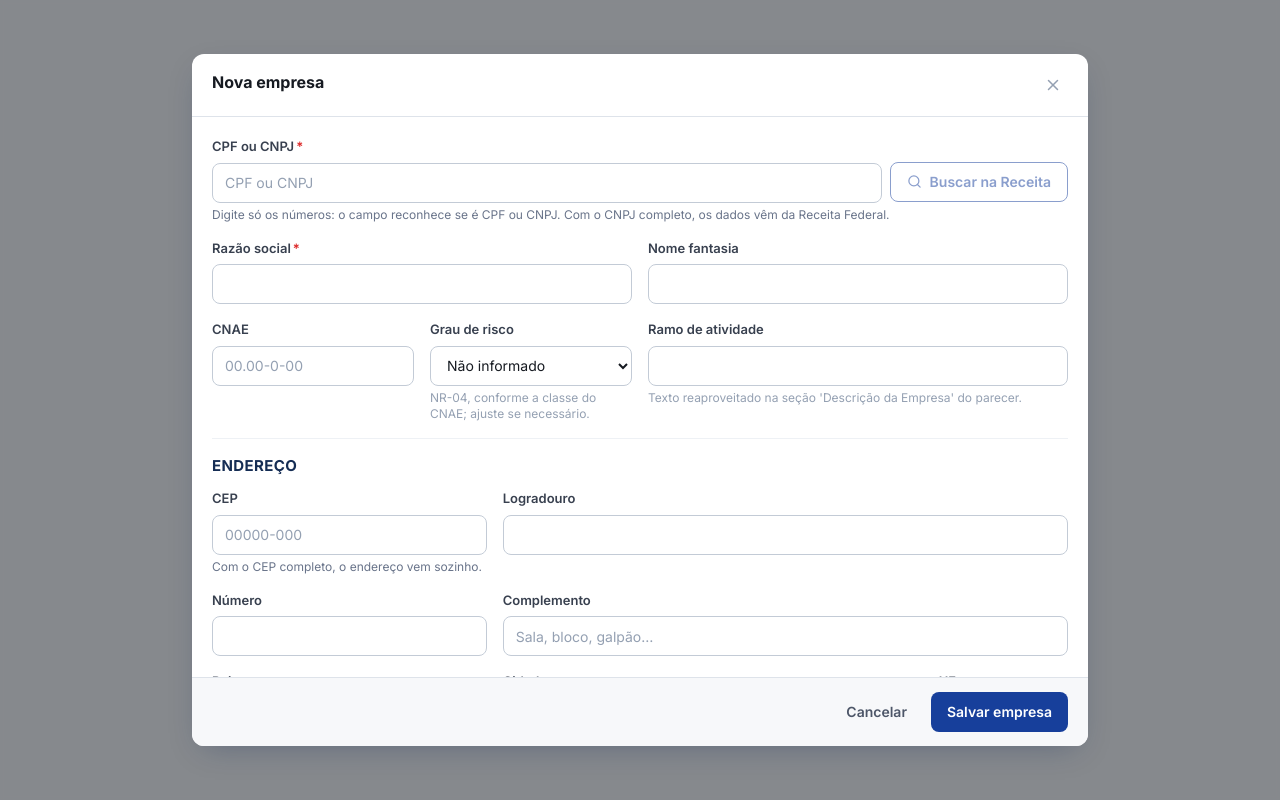
Test: ModalEmpresa › erro do servidor mantém a janela aberta com o que foi digitado
The image size is (1280, 800).
Type "ADZ SERVICOS LTDA" into the field labelled "Razão social*" at coordinates (422, 284), box [212,264,632,304]
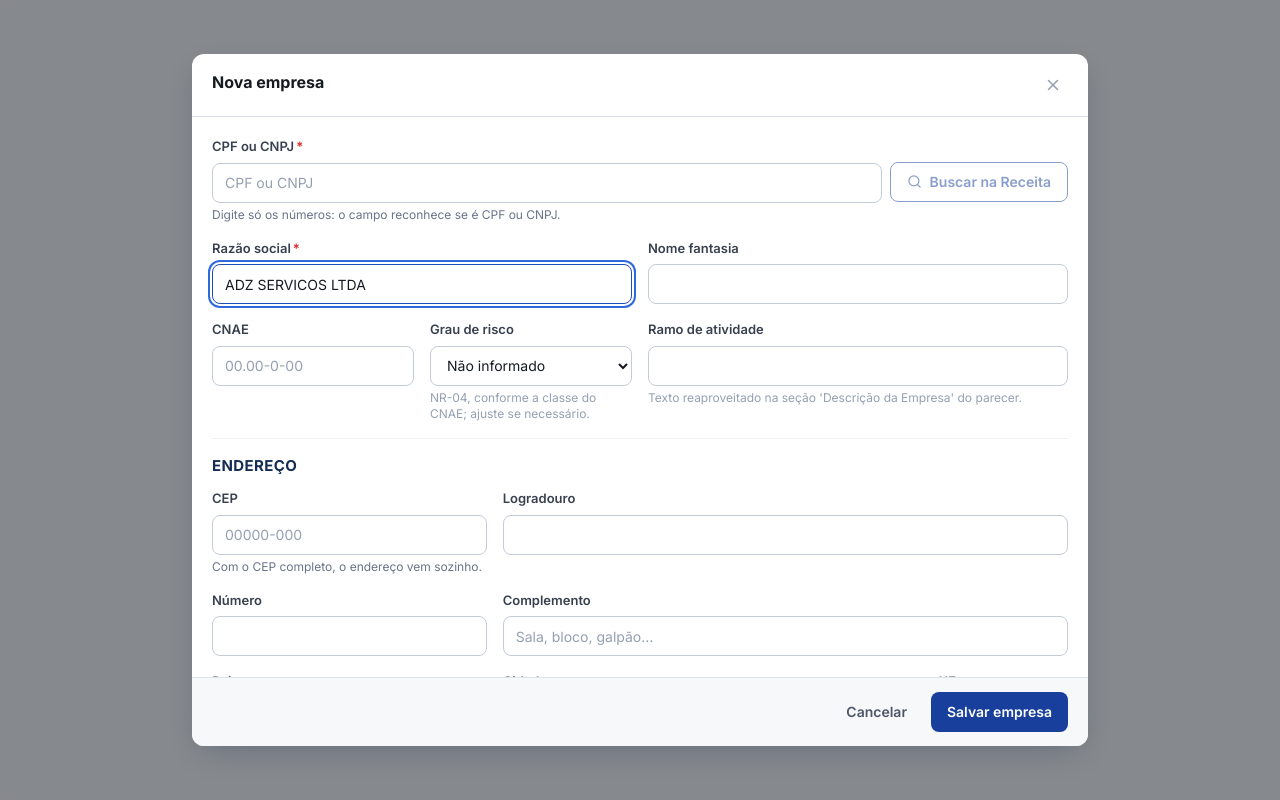
Type "11222333000181" into the field labelled "CPF ou CNPJ" at coordinates (547, 182), box [212,162,882,202]
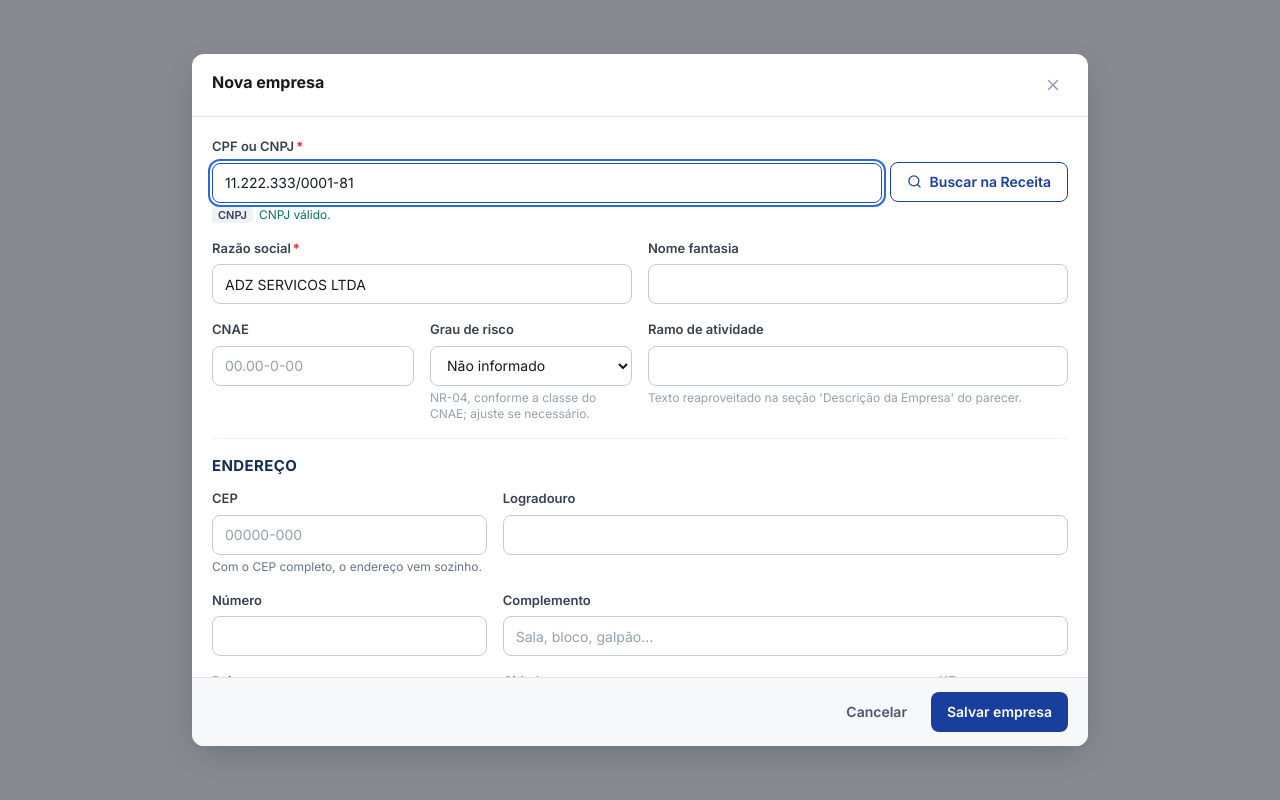
Click the button "Salvar empresa" at coordinates (1000, 712), box [931,692,1068,732]
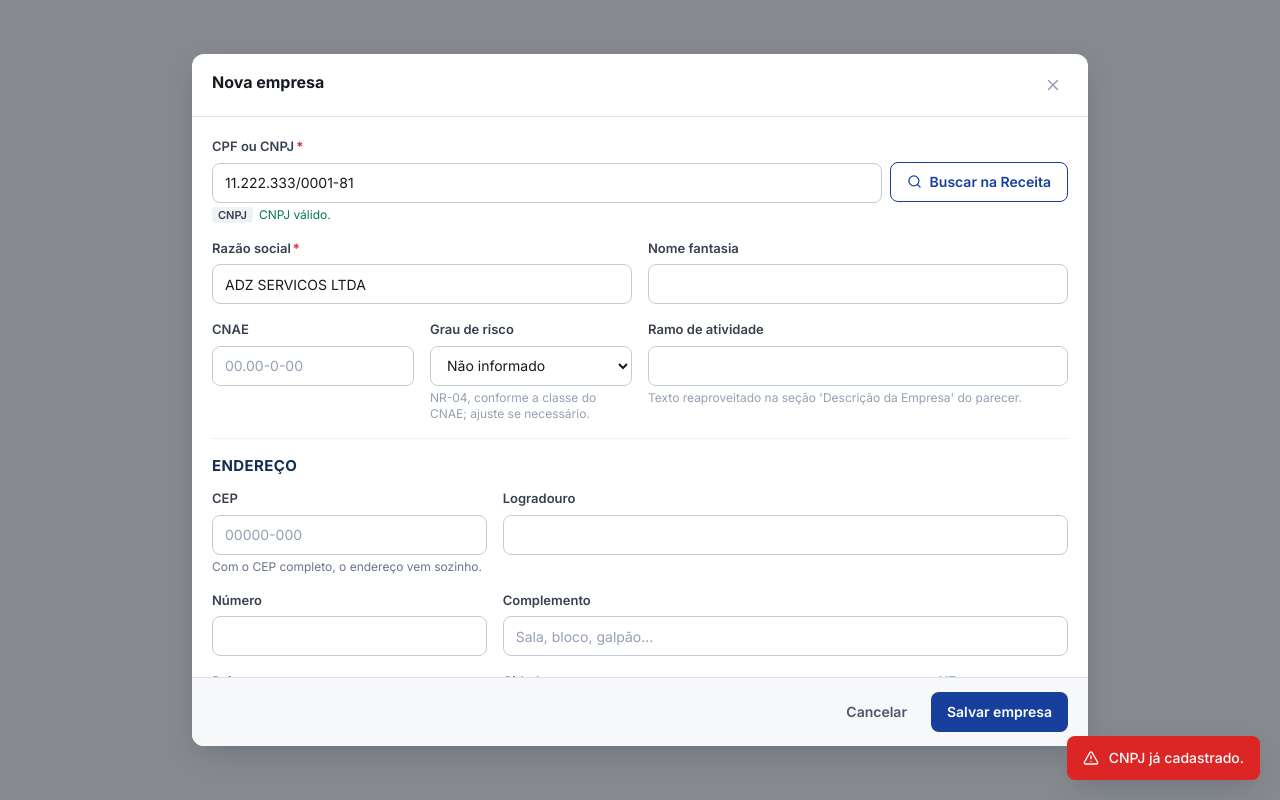
Check: the text "CNPJ já cadastrado." is shown, box [1109,748,1244,768]
